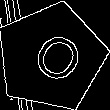O_SW: (19, 24, 83, 90)
